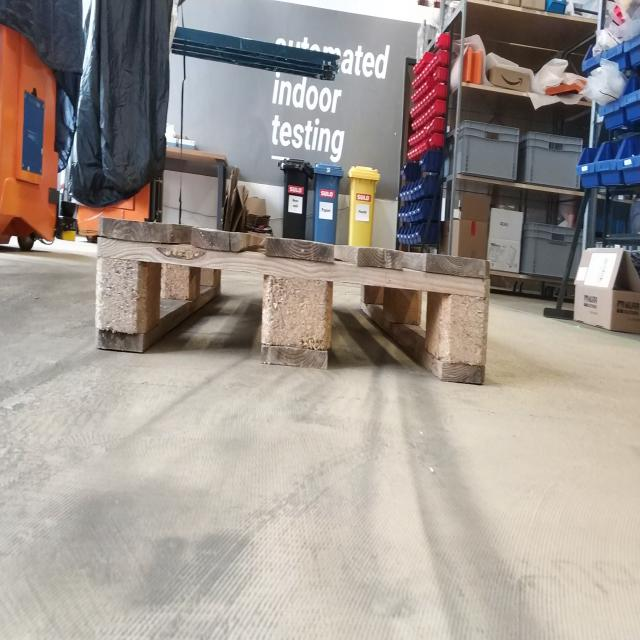block: (261, 233, 334, 372), (435, 247, 495, 388), (92, 214, 152, 354)
front: (89, 213, 495, 390)
